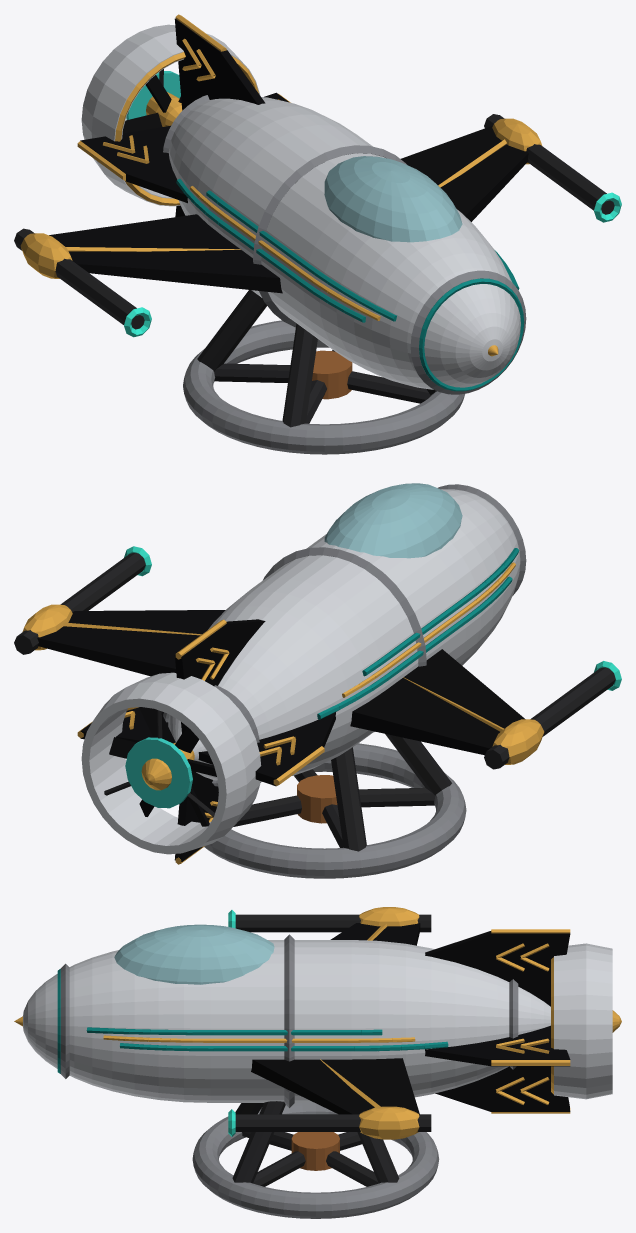
Rendered from fighter.obj.
3 renders of one model, top to bottom at view 1: azimuth 30°, elevation 25°; view 2: azimuth 150°, elevation 25°; view 3: azimuth 270°, elevation 25°, orthographic. The views are drawn at different scales.
Parts seen in each view (by area): view 1: fighter; view 2: fighter; view 3: fighter.
Boxes of the visible parts, x1,y1,x2,y2 form: fighter: (14, 14, 621, 454); fighter: (14, 483, 621, 878); fighter: (14, 907, 621, 1218).
Size of the model in its own units: 37.3 by 19.76 by 45.
1 material, 1 textured.
